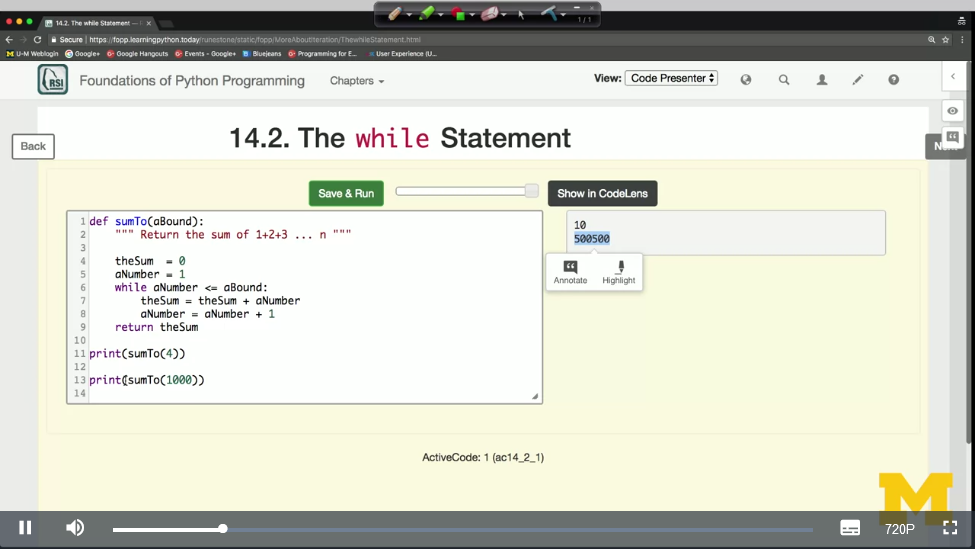code block: (87, 213, 359, 393)
text: (224, 116, 579, 155), (74, 71, 311, 92)
